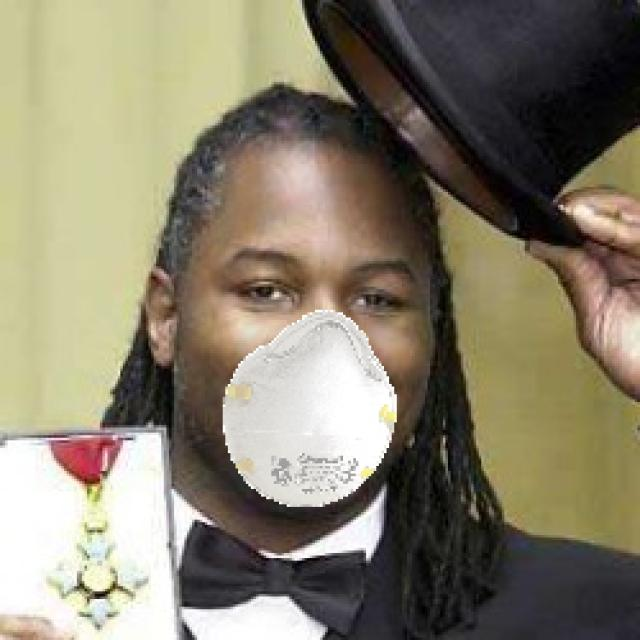mask: (193, 286, 423, 536)
